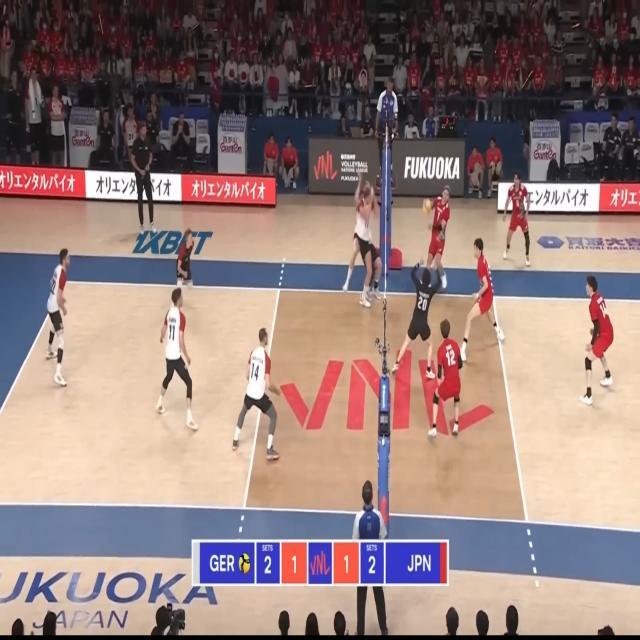ball: (423, 198, 431, 215)
